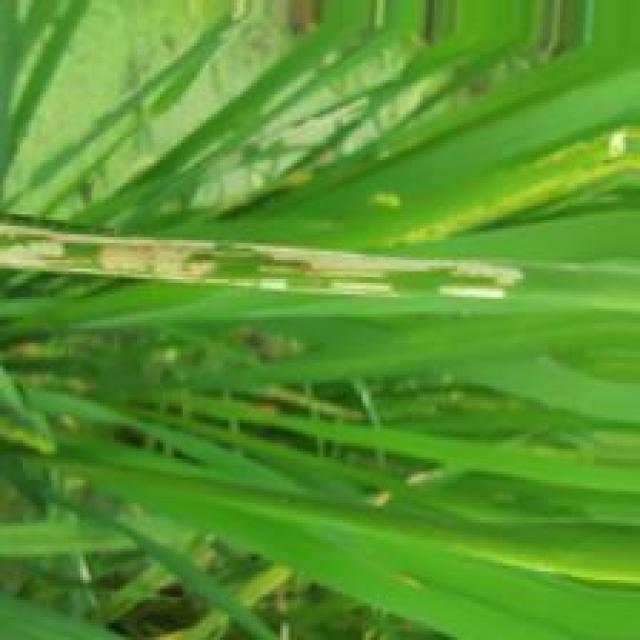Rice_Hispa: (237, 247, 533, 304), (0, 232, 240, 285)
